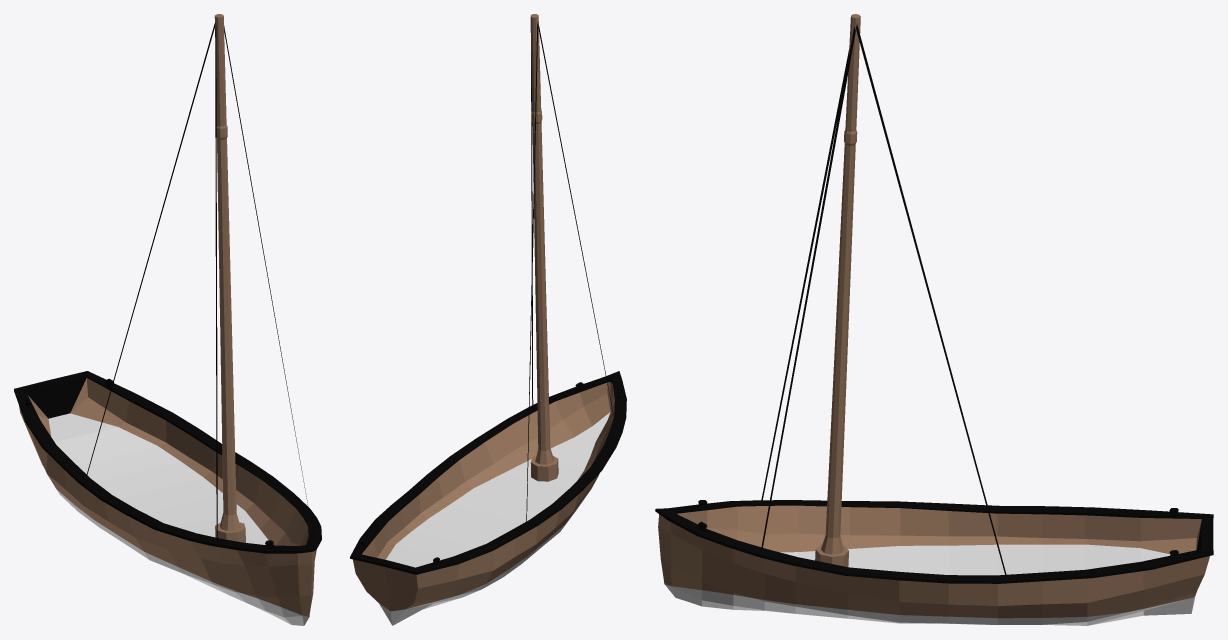
Rendered from lug_boat.gltf.
3 renders of one model, left to right at view 1: azimuth 30°, elevation 25°; view 2: azimuth 150°, elevation 25°; view 3: azimuth 270°, elevation 25°, orthographic. The views are drawn at different scales.
Parts seen in each view (by area): view 1: Boat7; view 2: Boat7; view 3: Boat7.
Boxes of the visible parts, bbox=[...] form: Boat7: bbox=[14, 14, 321, 625]; Boat7: bbox=[350, 14, 626, 625]; Boat7: bbox=[655, 14, 1213, 625].
Bounding box in the file's own units: 1.7 × 6.15 × 5.19.
